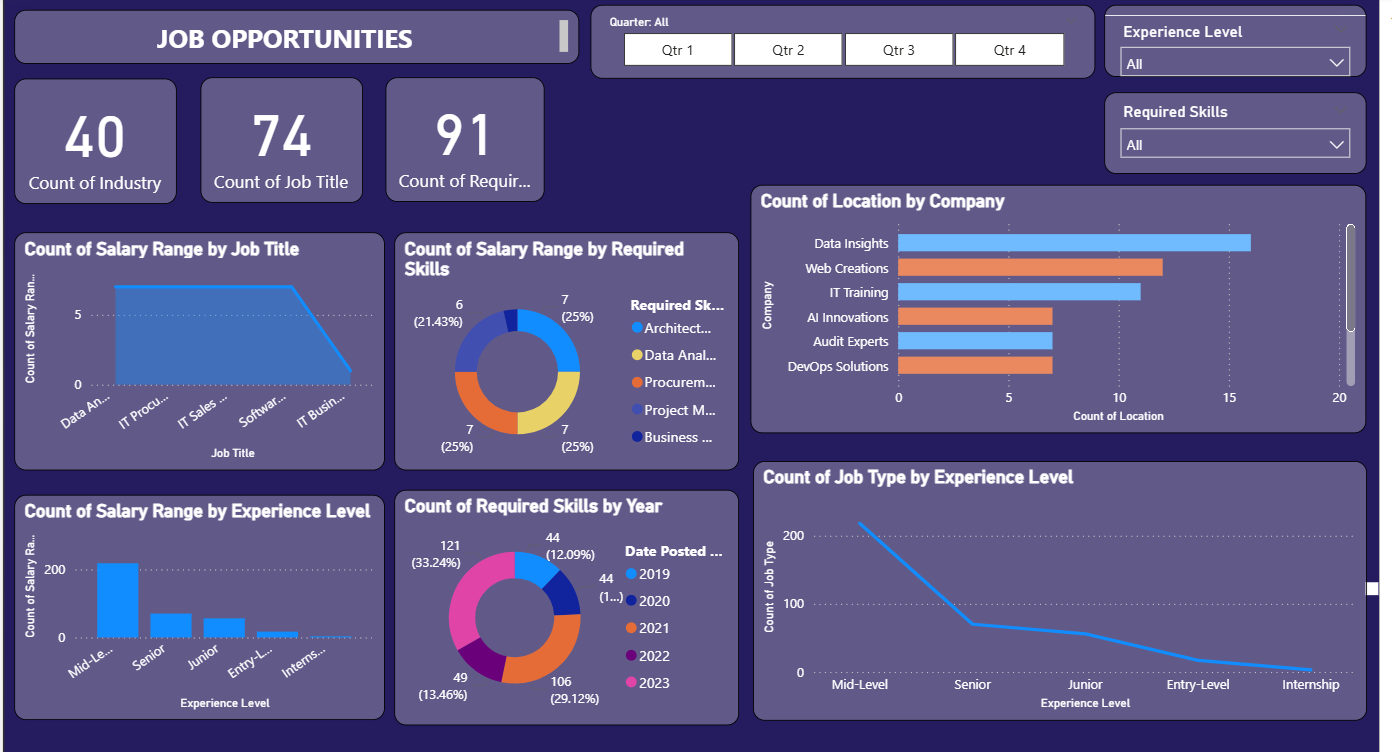

Layout of this report page (visuals, bound fields, positions):
{"tool":"powerbi","page":{"name":"Page 2","canvas":[1280,720],"ordinal":0},"visuals":[{"type":"qnaVisual","box":[1268,545.3,12.1,12.1],"z":0},{"type":"textbox","box":[11,12.3,525.6,50.8],"z":1000},{"type":"clusteredBarChart","fields":{"Category":["Job opportunities.Company"],"Y":["CountNonNull(Job opportunities.Location)"]},"box":[695.7,175.7,572.9,231.4],"z":2000},{"type":"donutChart","fields":{"Category":["Job opportunities.Date Posted.Variation.Date Hierarchy.Year"],"Y":["CountNonNull(Job opportunities.Required Skills)"]},"box":[364.3,459.7,320.9,219.6],"z":3000},{"type":"donutChart","fields":{"Category":["Job opportunities.Required Skills"],"Y":["CountNonNull(Job opportunities.Salary Range)"]},"box":[364.3,219.6,320.9,222],"z":4000},{"type":"columnChart","fields":{"Category":["Job opportunities.Experience Level"],"Y":["CountNonNull(Job opportunities.Salary Range)"]},"box":[10.9,464.5,345,209.9],"z":5000},{"type":"areaChart","fields":{"Category":["Job opportunities.Job Title"],"Y":["CountNonNull(Job opportunities.Salary Range)"]},"box":[10.9,219.6,345,222],"z":6000},{"type":"card","fields":{"Values":["Count(Job opportunities.Industry)"]},"box":[10.9,77.2,150.8,117],"z":7000},{"type":"card","fields":{"Values":["Count(Job opportunities.Job Title)"]},"box":[183.4,76,150.8,117],"z":8000},{"type":"slicer","fields":{"Values":["Job opportunities.Date Posted.Variation.Date Hierarchy.Quarter"]},"box":[546.5,8.4,469.3,68.8],"z":9000},{"type":"slicer","fields":{"Values":["Job opportunities.Experience Level"]},"box":[1024.3,8.4,243.7,67.6],"z":10000},{"type":"slicer","fields":{"Values":["Job opportunities.Required Skills"]},"box":[1024.3,89.3,243.7,76],"z":11000},{"type":"card","fields":{"Values":["Count(Job opportunities.Required Skills)"]},"box":[355.9,76,148.4,115.8],"z":12000},{"type":"lineChart","fields":{"Category":["Job opportunities.Experience Level"],"Y":["CountNonNull(Job opportunities.Job Type)"]},"box":[697.1,432.9,571.4,241.4],"z":13000}]}

Visuals, with their boxes in screenshot pixels (x1, y1, x2, y2):
qnaVisual: bbox(1373, 574, 1386, 587)
textbox: bbox(33, 6, 594, 60)
clusteredBarChart - Job opportunities.Company x CountNonNull(Job opportunities.Location): bbox(763, 180, 1374, 427)
donutChart - Job opportunities.Date Posted.Variation.Date Hierarchy.Year x CountNonNull(Job opportunities.Required Skills): bbox(410, 483, 752, 717)
donutChart - Job opportunities.Required Skills x CountNonNull(Job opportunities.Salary Range): bbox(410, 227, 752, 463)
columnChart - Job opportunities.Experience Level x CountNonNull(Job opportunities.Salary Range): bbox(33, 488, 401, 711)
areaChart - Job opportunities.Job Title x CountNonNull(Job opportunities.Salary Range): bbox(33, 227, 401, 463)
card - Count(Job opportunities.Industry): bbox(33, 75, 194, 200)
card - Count(Job opportunities.Job Title): bbox(217, 74, 378, 198)
slicer - Job opportunities.Date Posted.Variation.Date Hierarchy.Quarter: bbox(604, 2, 1104, 75)
slicer - Job opportunities.Experience Level: bbox(1113, 2, 1373, 74)
slicer - Job opportunities.Required Skills: bbox(1113, 88, 1373, 169)
card - Count(Job opportunities.Required Skills): bbox(401, 74, 559, 197)
lineChart - Job opportunities.Experience Level x CountNonNull(Job opportunities.Job Type): bbox(765, 454, 1373, 711)
